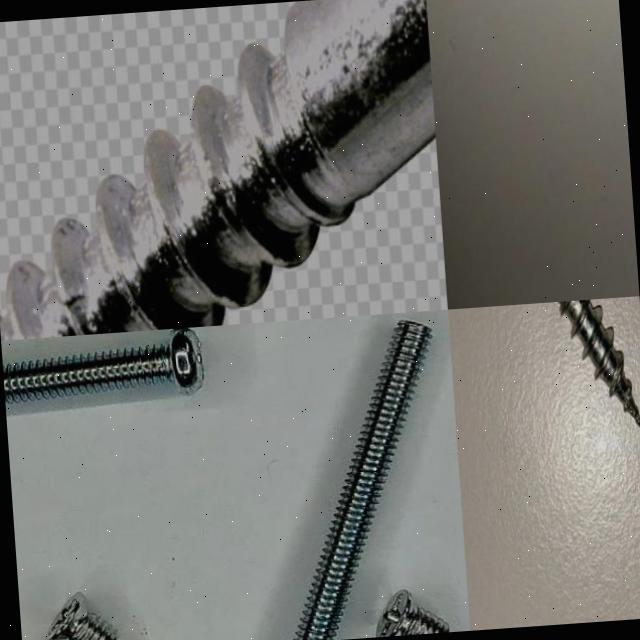Screw: (0, 0, 435, 340), (294, 321, 431, 640), (2, 328, 202, 405), (557, 299, 640, 427), (376, 591, 448, 637), (46, 592, 115, 640)
